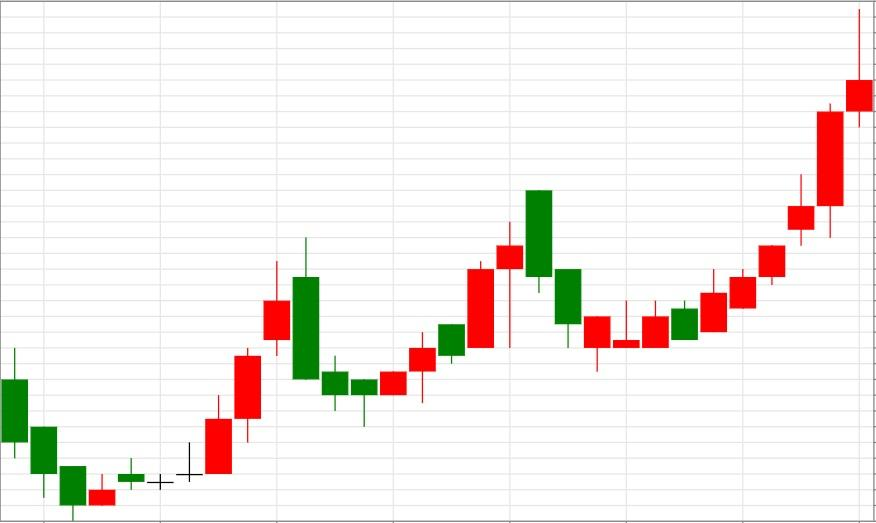bearish_engulfing_fall: (59, 237, 320, 521)
